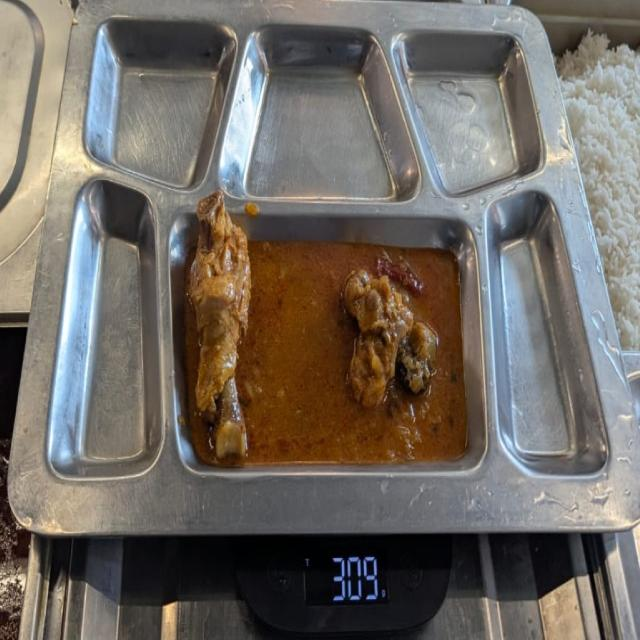Chicken Curry: (170, 190, 470, 470)
